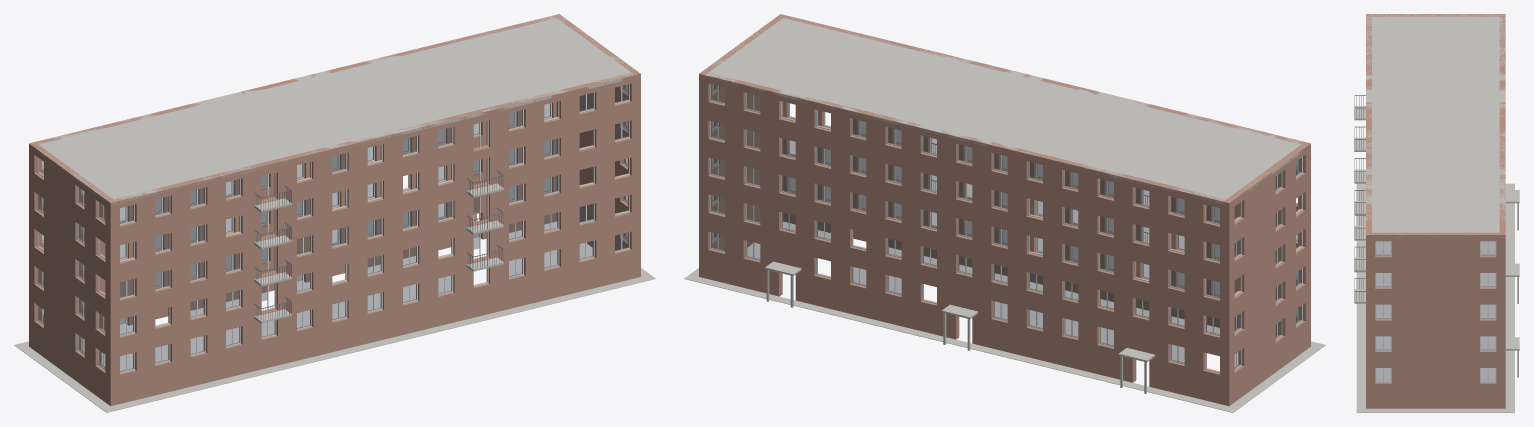
3 renders of one model, left to right at view 1: azimuth 30°, elevation 25°; view 2: azimuth 150°, elevation 25°; view 3: azimuth 270°, elevation 25°, orthographic. The views are drawn at different scales.
Visible parts, largest first — view 1: b6_lod1_outer, b6_lod1_slab, b6_lod1_glass, b6_lod1_windows, b6_lod1_apron, b6_lod1_railing, b6_lod1_balcony; view 2: b6_lod1_outer, b6_lod1_slab, b6_lod1_glass, b6_lod1_windows, b6_lod1_apron, b6_lod1_canopy; view 3: b6_lod1_slab, b6_lod1_outer, b6_lod1_apron, b6_lod1_glass, b6_lod1_balcony, b6_lod1_windows, b6_lod1_railing, b6_lod1_canopy.
Boxes of the visible parts, box(x1,y1,x2,y2) form: b6_lod1_outer: box(29, 14, 640, 406); b6_lod1_slab: box(29, 14, 640, 204); b6_lod1_glass: box(38, 84, 628, 371); b6_lod1_windows: box(37, 84, 629, 373); b6_lod1_apron: box(14, 234, 655, 412); b6_lod1_railing: box(254, 170, 503, 320); b6_lod1_balcony: box(254, 183, 503, 323); b6_lod1_outer: box(699, 14, 1310, 406); b6_lod1_slab: box(699, 14, 1306, 205); b6_lod1_glass: box(711, 84, 1301, 368); b6_lod1_windows: box(710, 84, 1302, 373); b6_lod1_apron: box(684, 268, 1325, 412); b6_lod1_canopy: box(765, 261, 1154, 393); b6_lod1_slab: box(1366, 14, 1505, 237); b6_lod1_outer: box(1366, 14, 1505, 408); b6_lod1_apron: box(1356, 183, 1514, 412); b6_lod1_glass: box(1376, 241, 1495, 381); b6_lod1_balcony: box(1354, 106, 1365, 303); b6_lod1_windows: box(1375, 241, 1496, 382); b6_lod1_railing: box(1354, 95, 1365, 301); b6_lod1_canopy: box(1505, 190, 1519, 377).
Size of the model in its own units: 46.6 by 16.5 by 14.2.
